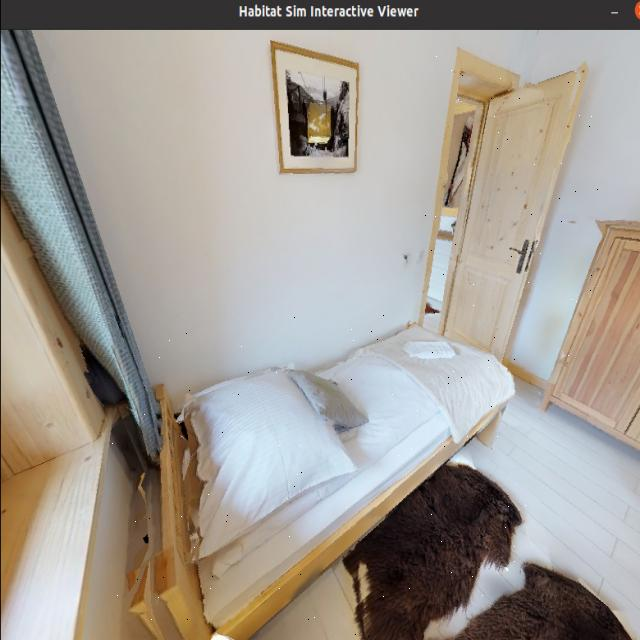bed: (112, 307, 526, 640)
door: (452, 68, 600, 370)
door-frame: (416, 49, 494, 346)
